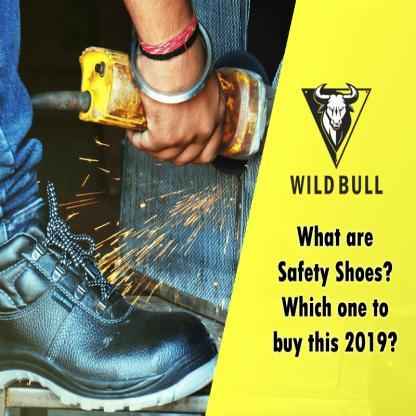bota: (0, 209, 220, 416)
